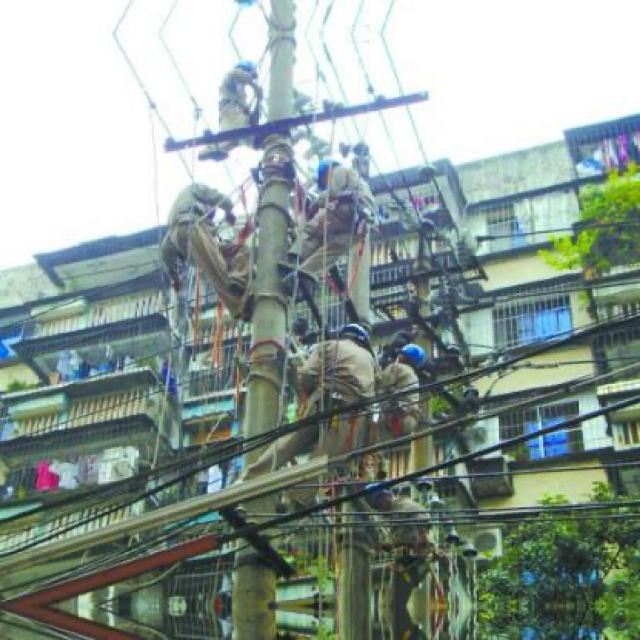helmet: (337, 319, 374, 358), (362, 480, 402, 510), (317, 156, 346, 191), (394, 344, 428, 373), (231, 59, 257, 85), (231, 0, 258, 11)
